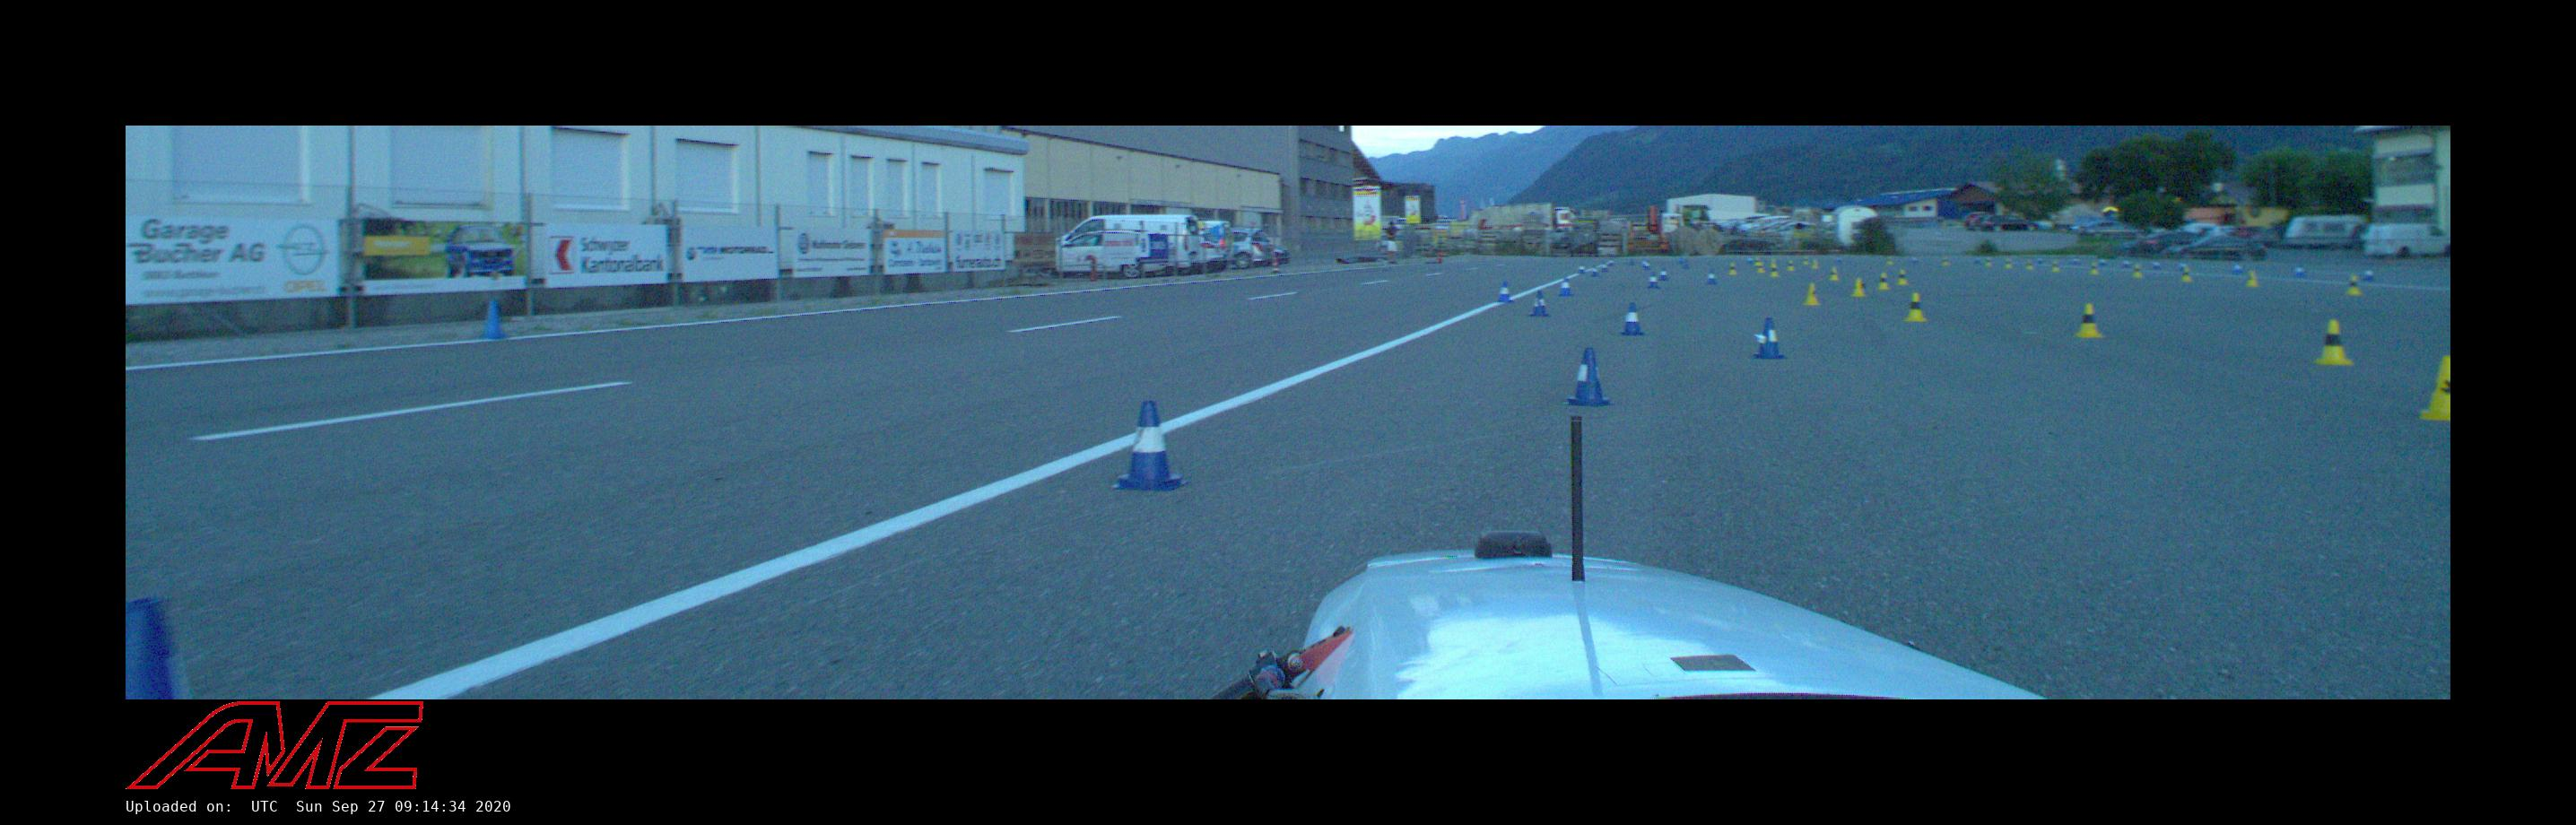blue_cone: (1111, 399, 1189, 491), (1564, 348, 1615, 406), (1751, 317, 1786, 360), (1620, 302, 1644, 335), (1528, 289, 1553, 317), (1497, 281, 1515, 302), (1557, 276, 1574, 296), (1705, 270, 1717, 284), (1648, 271, 1658, 288), (1658, 268, 1667, 281)
yellow_cone: (2420, 355, 2451, 419), (2315, 319, 2353, 365), (2075, 302, 2103, 339), (1902, 293, 1927, 322), (1802, 283, 1820, 306), (1850, 278, 1865, 296), (2346, 276, 2361, 294), (1876, 273, 1889, 289), (1897, 270, 1907, 284)
